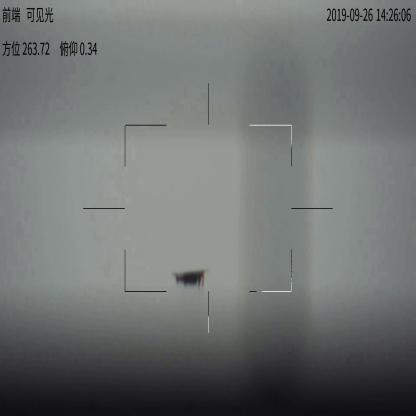uav: (172, 268, 212, 288)
